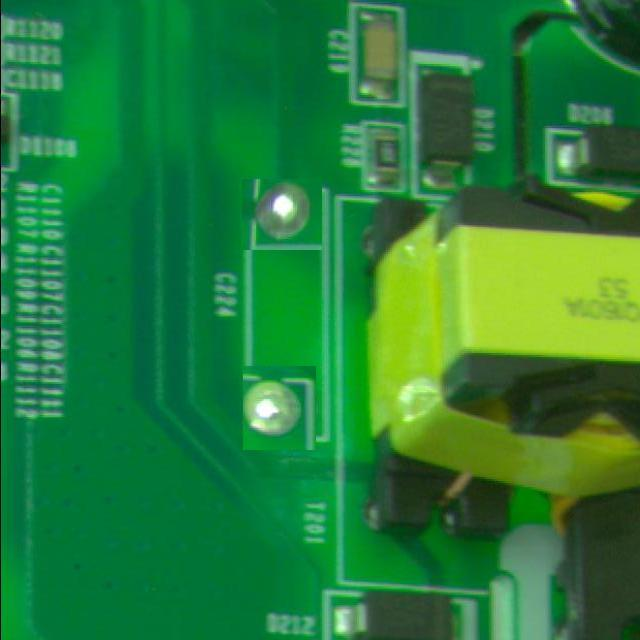lack_of_part: (242, 365, 316, 450), (244, 176, 320, 252)
